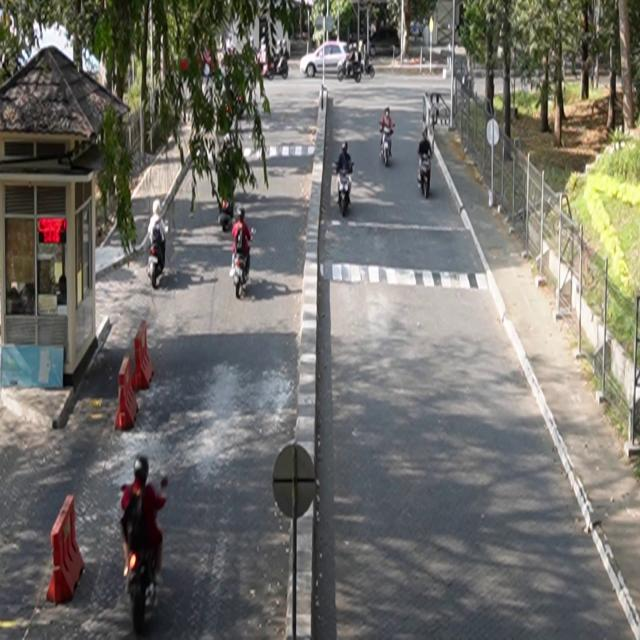car: (301, 41, 351, 78)
